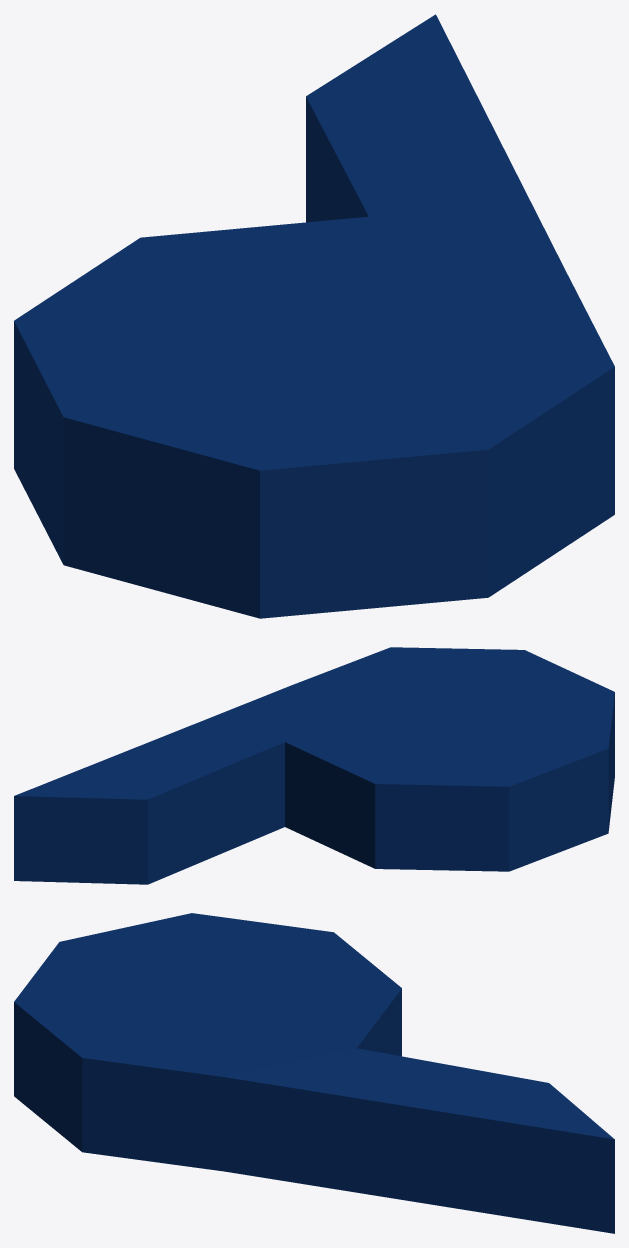
The model's file is Whistle.glb.
The picture shows the model from 3 angles, top to bottom: view 1: azimuth 30°, elevation 25°; view 2: azimuth 150°, elevation 25°; view 3: azimuth 270°, elevation 25°; orthographic projection. The views are drawn at different scales.
Parts seen in each view (by area): view 1: Whistle; view 2: Whistle; view 3: Whistle.
Boxes of the visible parts, left/top/right/bottom form: Whistle: left=14, top=14, right=614, bottom=618; Whistle: left=14, top=647, right=614, bottom=884; Whistle: left=14, top=913, right=614, bottom=1233.
Size of the model in its own units: 0.0434 by 0.00939 by 0.0503.
1 material, 1 textured.
